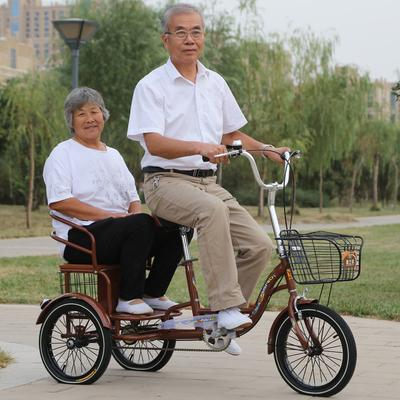driver: (132, 4, 323, 328)
overloading: (23, 1, 374, 399)
passenger: (34, 87, 185, 330)
